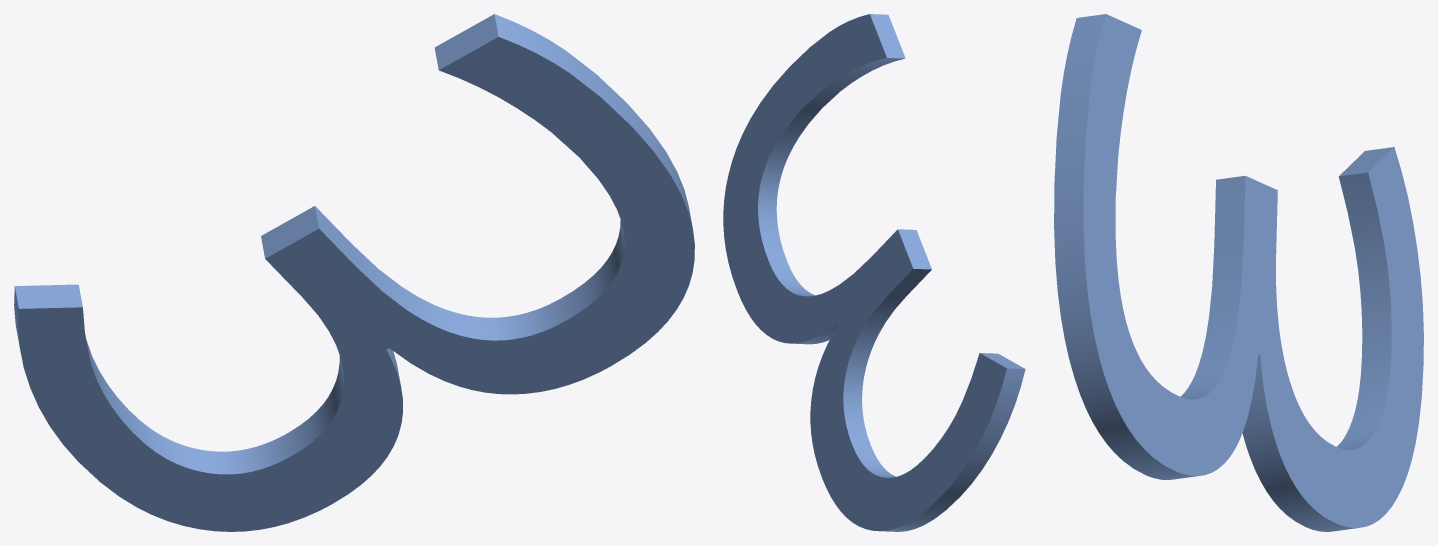
The model's file is New_Number_3.gltf.
3 views of the same model, side by side, from view 1: azimuth 30°, elevation 25°; view 2: azimuth 150°, elevation 25°; view 3: azimuth 270°, elevation 25° (orthographic). The views are drawn at different scales.
Visible parts, largest first — view 1: Part 498; view 2: Part 498; view 3: Part 498.
Part boxes in pixels (x1,y1,x2,y2): Part 498: (14,14,694,531); Part 498: (723,14,1025,531); Part 498: (1054,14,1423,531).
Size of the model in its own units: 0.00468 by 0.00478 by 0.00281.
